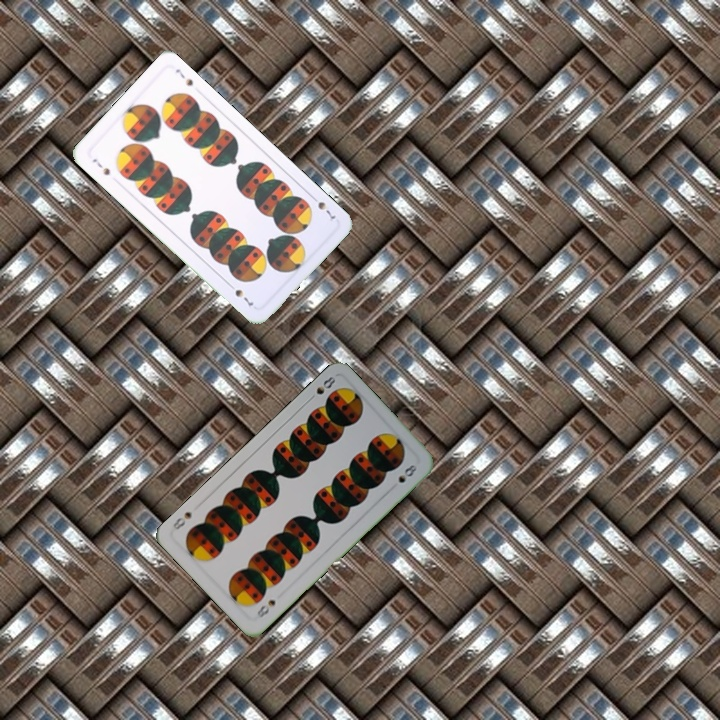S7: (307, 191, 338, 222), (88, 154, 113, 178)
S8: (304, 372, 338, 404), (253, 596, 278, 621)
